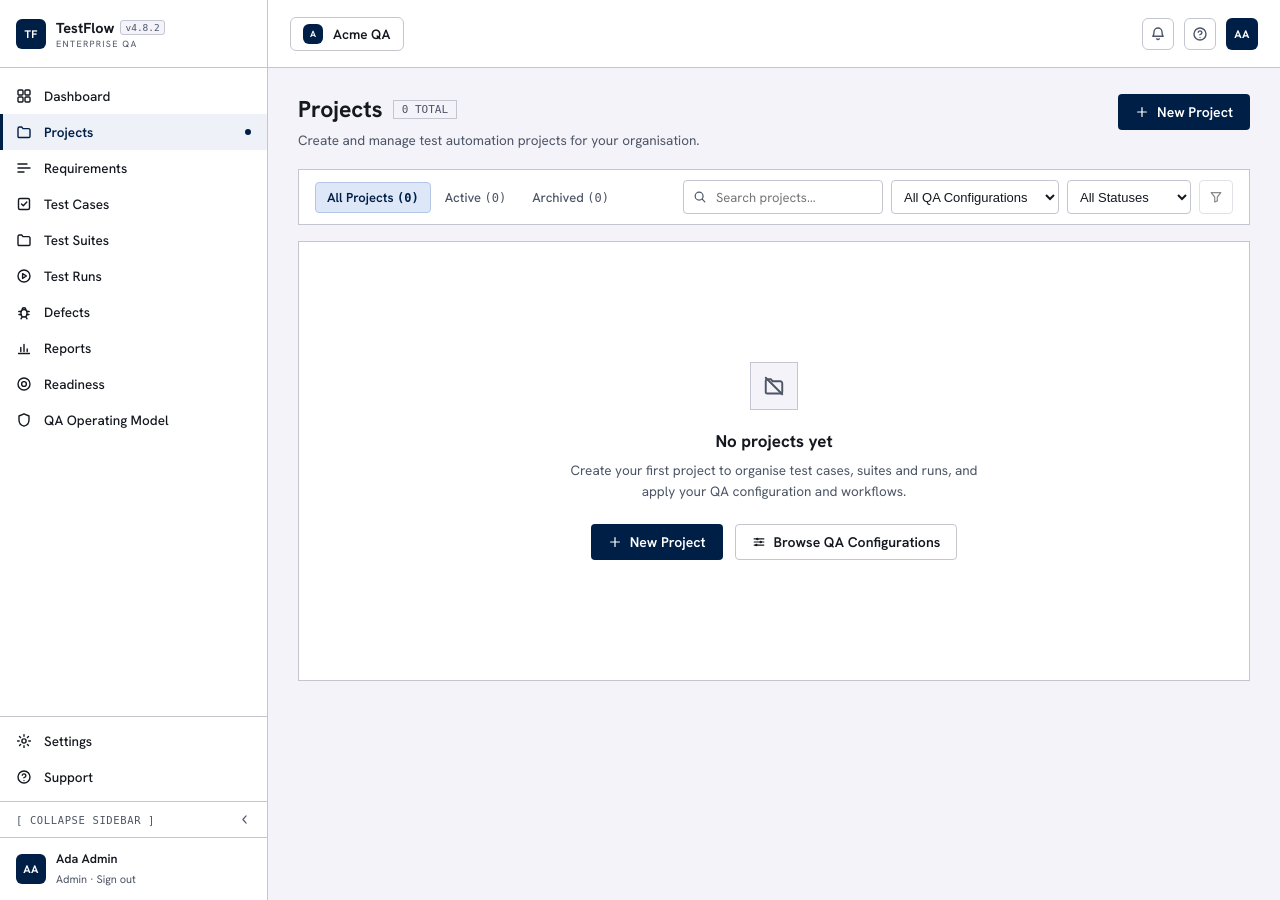
Test: Projects page › Projects — Create Project › creates the project with the trimmed values pinned to the shown QA configuration, then shows the populated list
Click the button "New Project" in the row of "0 TOTAL" at (1184, 112), box [1118, 94, 1250, 130]
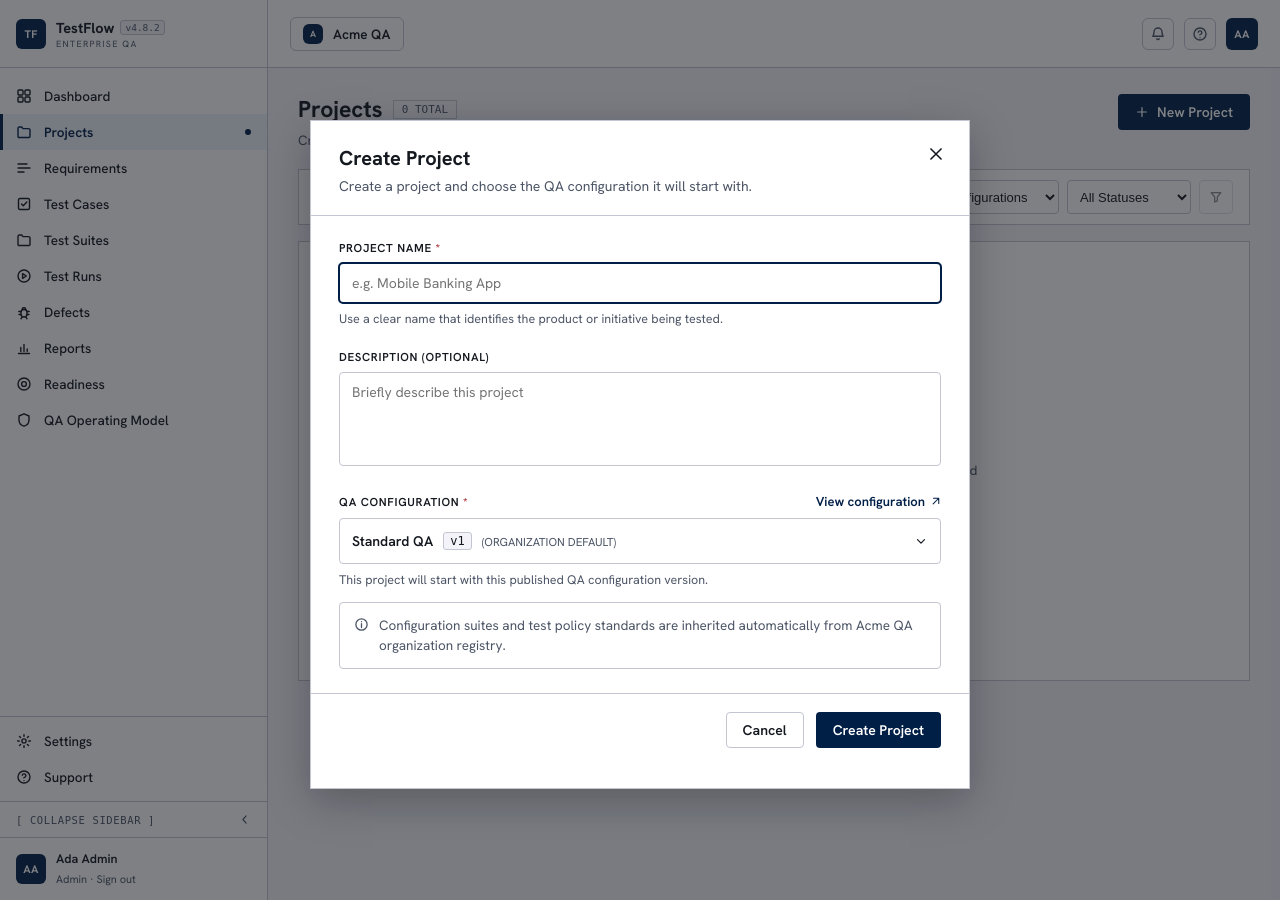
Now the text "Standard QA" is shown, box [352, 532, 433, 550]
Type "  Mobile Banking App  " into the field labelled "Project Name *" at (640, 283), box [339, 263, 941, 303]
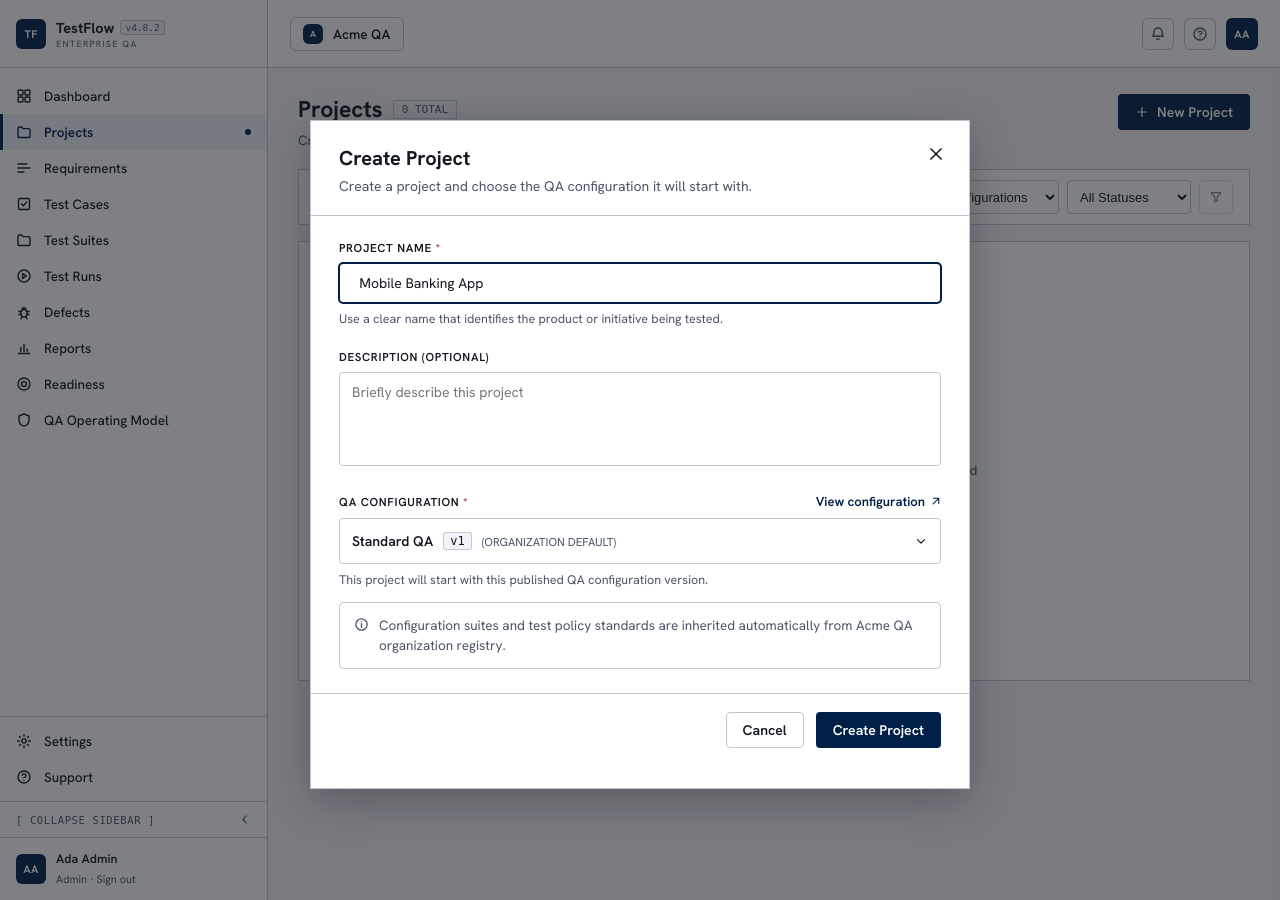
Type " Retail app " into the text box labelled "Description (optional)" at (640, 419), box [339, 372, 941, 466]
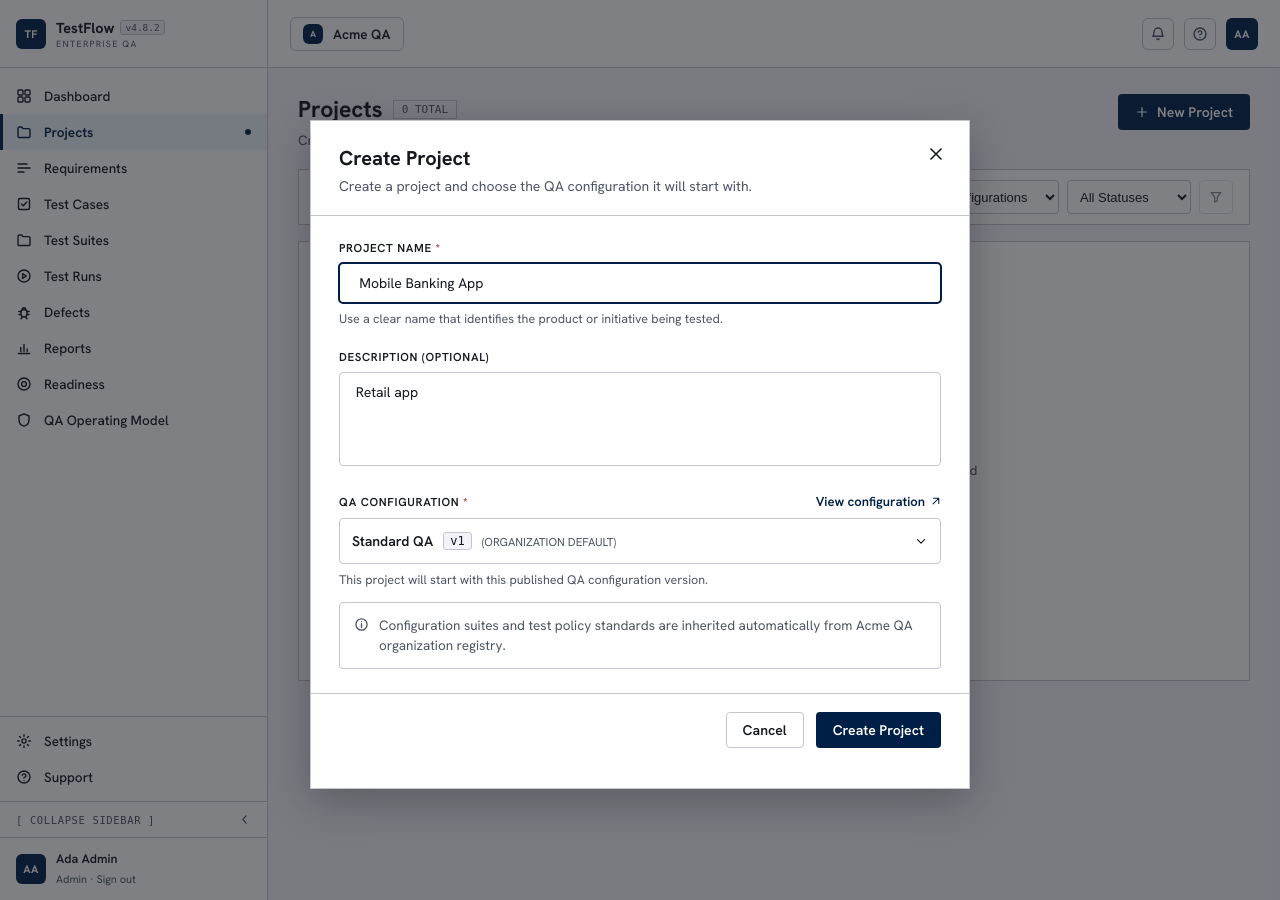
Click the button "Create Project" at (878, 730), box [816, 712, 941, 748]
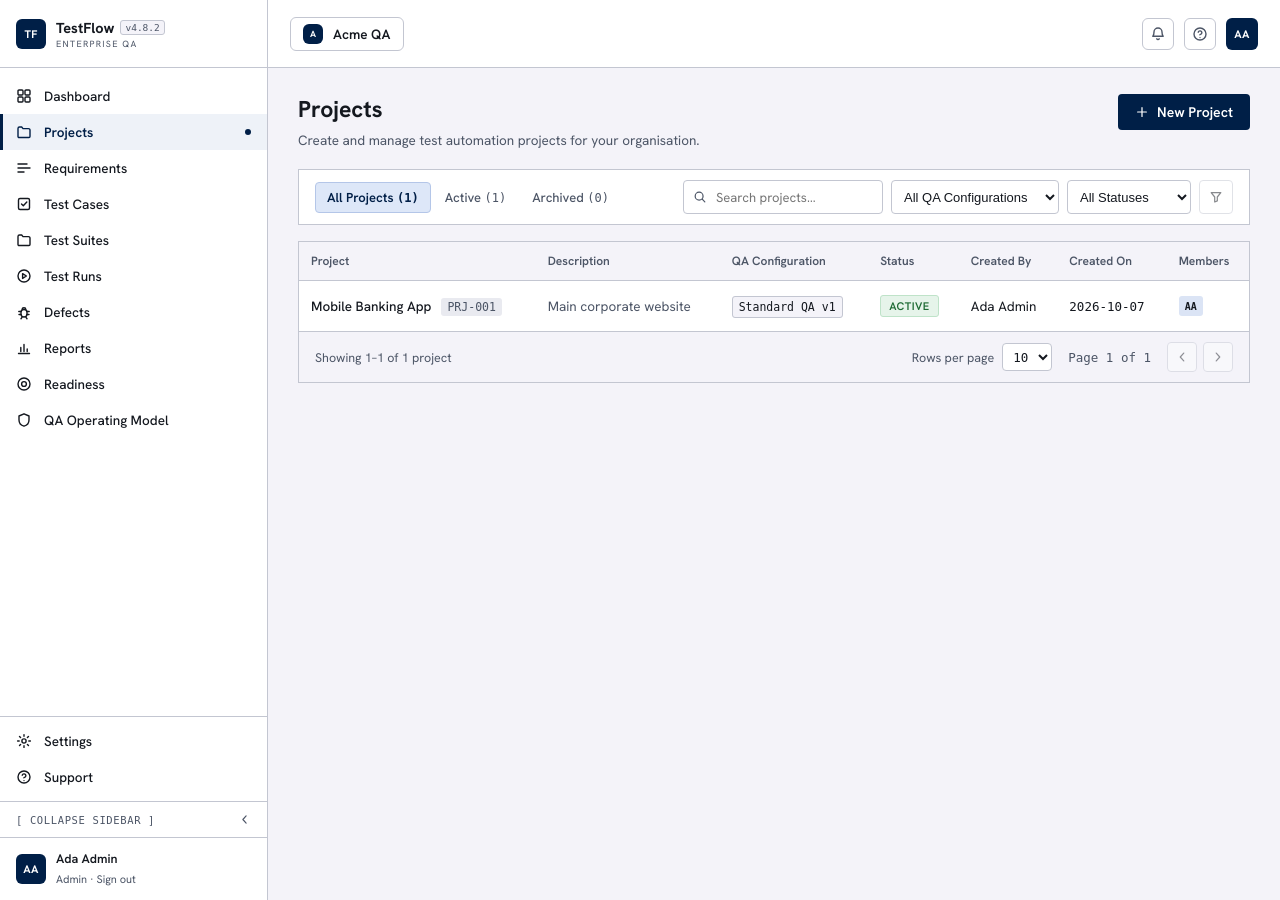
Expected: the heading "No projects yet" is not shown
Now the dialog is gone
Now the text "Mobile Banking App" is shown, box [311, 297, 431, 315]
